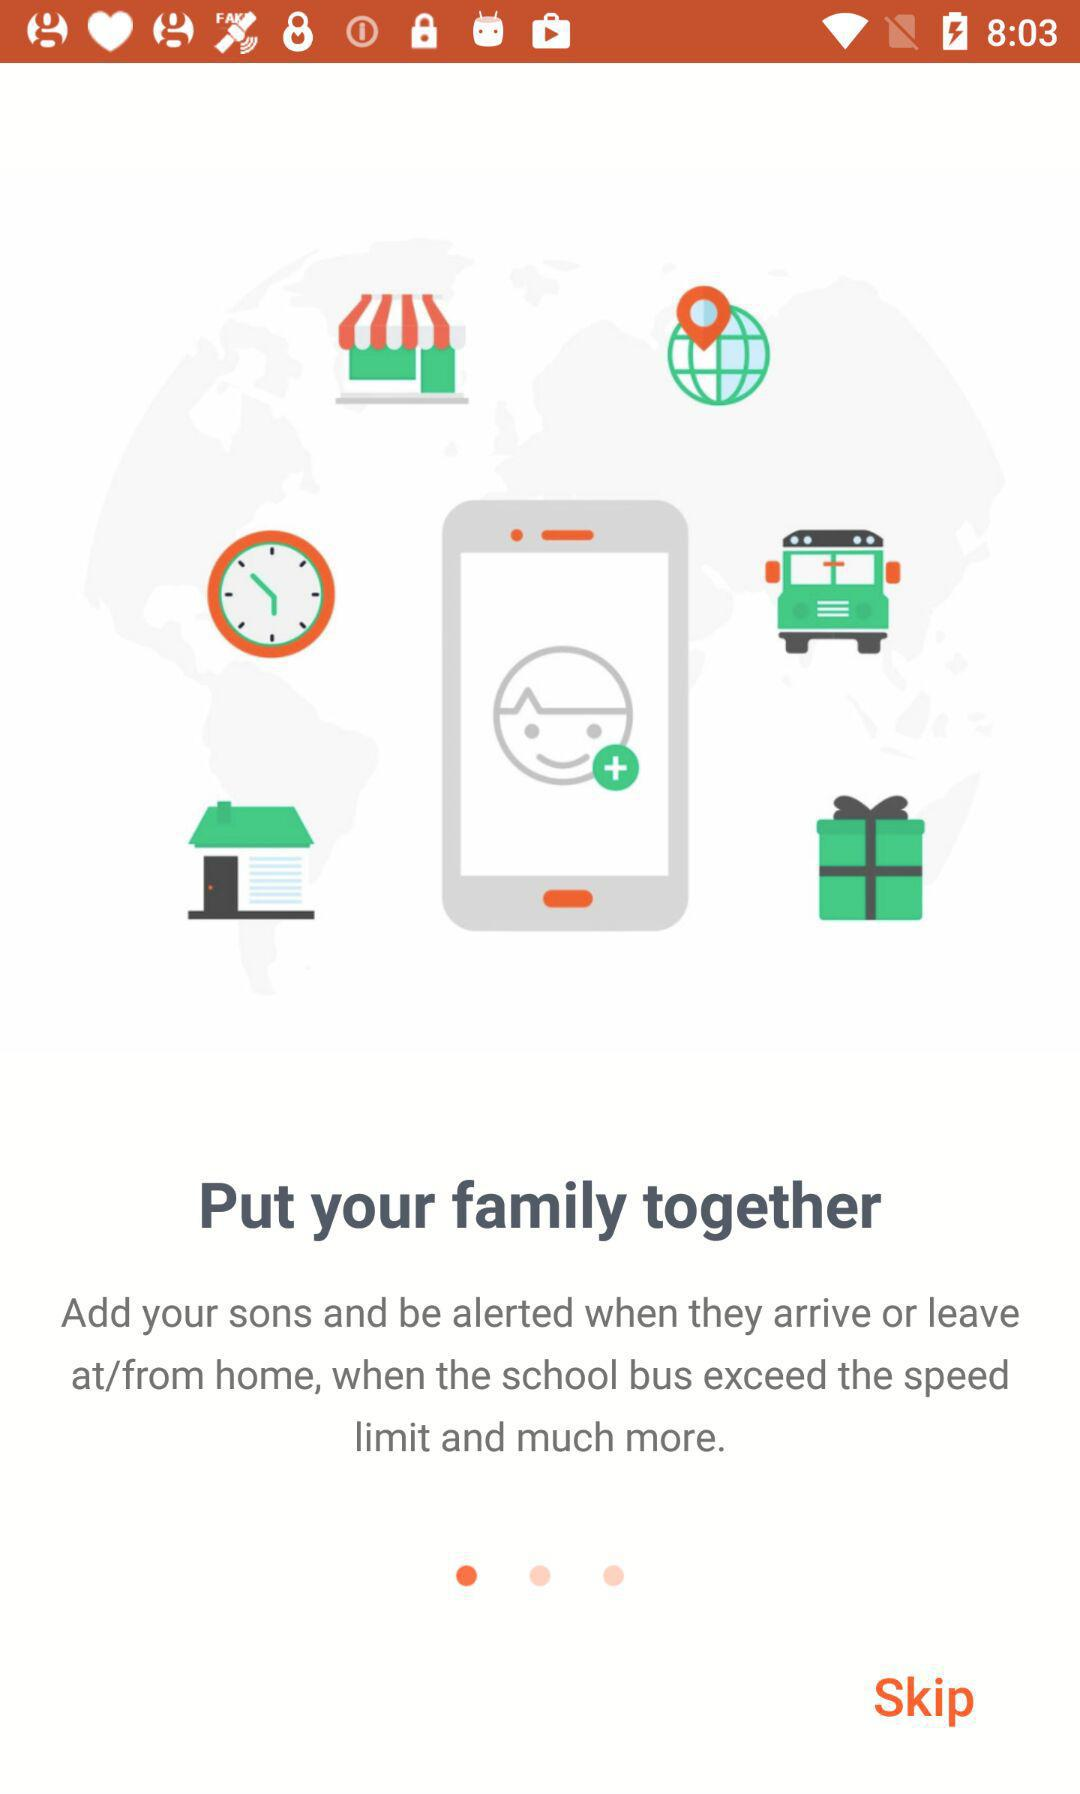Image: (81, 235, 1011, 1000)
PageIndicator: (455, 1563, 626, 1588)
Text: (60, 1294, 1021, 1454), (200, 1179, 884, 1244), (872, 1674, 976, 1729)
UpperTaskBar: (1, 1, 1080, 64)
